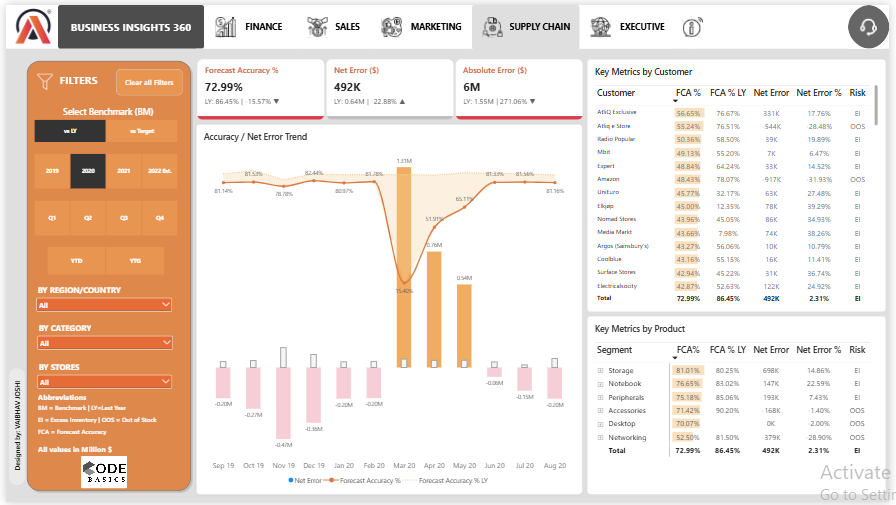

This screenshot's page, from the dashboard's own definition file:
{"tool":"powerbi","page":{"name":"Supply Chain View","canvas":[1920,1080],"ordinal":4},"visuals":[{"type":"group","id":"g1","title":"Group 3","box":[70,864.3,265.7,74.3],"z":0,"group":"g2"},{"type":"shape","box":[70.3,864.3,264,24],"z":0,"group":"g1"},{"type":"pivotTable","title":"Key Metrics by Customer","fields":{"Rows":["dim_customer.customer"],"Values":["Key Measures.Forecast Accuracy %","Key Measures.Forecast Accuracy % LY","Key Measures.Net Error","Key Measures.Net Error %","Key Measures.Risk"]},"box":[1262.5,117.5,650,550],"z":1000},{"type":"shape","box":[70,835.8,237.5,33.8],"z":1000,"group":"g2"},{"type":"shape","box":[70,890.6,264.3,22.9],"z":1000,"group":"g1"},{"type":"lineClusteredColumnComboChart","title":"Accuracy / Net Error Trend","fields":{"Category":["dim_date.Month"],"Y":["Key Measures.Net Error"],"Y2":["Key Measures.Forecast Accuracy %","Key Measures.Forecast Accuracy % LY"]},"box":[414,258,840,806],"z":2000},{"type":"shape","box":[70,915.7,265.7,22.9],"z":2000,"group":"g1"},{"type":"pivotTable","title":"Key Metrics by Product","fields":{"Rows":["dim_product.segment","dim_product.category","dim_product.product"],"Values":["Key Measures.Forecast Accuracy %","Key Measures.Forecast Accuracy % LY","Key Measures.Net Error","Key Measures.Net Error %","Key Measures.Risk"]},"box":[1262,676,650,388],"z":3000},{"type":"textbox","box":[1830,0,90,95],"z":5000},{"type":"textbox","box":[0,0,1905,95],"z":6000},{"type":"image","box":[15,7.5,90,77.5],"z":7000},{"type":"actionButton","box":[112.5,0,317.5,95],"z":8000},{"type":"actionButton","box":[432.5,0,197.5,95],"z":9000},{"type":"actionButton","box":[632.5,0,157.5,95],"z":10000},{"type":"actionButton","box":[792.5,0,217.5,95],"z":11000},{"type":"actionButton","box":[1012,0,234,96],"z":12000},{"type":"actionButton","box":[1247.5,0,205,95],"z":13000},{"type":"actionButton","box":[1830,0,90,95],"z":14000},{"type":"actionButton","box":[1455,0,77.5,95],"z":15000},{"type":"shape","box":[38.1,114.3,369,947.6],"z":16000},{"type":"shape","box":[70,947.5,238,32],"z":17000},{"type":"slicer","fields":{"Values":["dim_date.Quarter"]},"box":[40.5,423.8,350,78.6],"z":18000},{"type":"slicer","fields":{"Values":["dim_date.YTD_YTG"]},"box":[69,523.8,292.9,64.3],"z":19000},{"type":"slicer","fields":{"Values":["dim_market.region","dim_market.market"]},"box":[61.9,605.8,304.8,78.6],"z":20000},{"type":"slicer","fields":{"Values":["dim_customer.customer"]},"box":[62.5,774.5,302.5,77.5],"z":21000},{"type":"slicer","fields":{"Values":["dim_product.category"]},"box":[62.5,689.5,305,80],"z":22000},{"type":"slicer","fields":{"Values":["Set BM.Benchmarks"]},"box":[40.5,247.6,350,52],"z":23000},{"type":"actionButton","box":[240,140,145,57.5],"z":24000},{"type":"textbox","title":"FILTERS","box":[104.8,147.6,107.1,35.7],"z":25000},{"type":"image","box":[61.9,147.6,47.6,38.1],"z":26000},{"type":"slicer","fields":{"Values":["Fiscal Year.FY_desc"]},"box":[40.5,322.2,350,78.6],"z":27000},{"type":"textbox","title":"Select Benchmark (BM)","box":[78.6,219,288.1,38.1],"z":28000},{"type":"image","box":[162.5,980,100,70],"z":29000},{"type":"group","id":"g2","title":"Group 5","box":[70,835.8,265,102.5],"z":30000},{"type":"actionButton","title":"AB Signature","box":[7.5,790,35,255],"z":31000},{"type":"cardVisual","fields":{"Data":["Key Measures.Forecast Accuracy %","Key Measures.Net Error","Key Measures.Abs Error"]},"box":[415,117.5,840,132],"z":32000},{"type":"shape","box":[432.5,123.8,240,31.7],"z":33000},{"type":"shape","box":[712.5,123.8,240,31.7],"z":34000},{"type":"shape","box":[992.5,123.8,240,32.5],"z":35000}]}

Visuals, with their boxes on the page's 1920x1080 design canvas (x1, y1, x2, y2). These are canvas units, not pixel positions in the 896x505 screenshot, which may show the page scaled, cropped or inside an application window:
"Group 3" group: bbox(70, 864, 336, 939)
shape: bbox(70, 864, 334, 888)
"Key Metrics by Customer" pivotTable: bbox(1262, 118, 1912, 668)
shape: bbox(70, 836, 308, 870)
shape: bbox(70, 891, 334, 914)
"Accuracy / Net Error Trend" lineClusteredColumnComboChart: bbox(414, 258, 1254, 1064)
shape: bbox(70, 916, 336, 939)
"Key Metrics by Product" pivotTable: bbox(1262, 676, 1912, 1064)
textbox: bbox(1830, 0, 1920, 95)
textbox: bbox(0, 0, 1905, 95)
image: bbox(15, 8, 105, 85)
actionButton: bbox(112, 0, 430, 95)
actionButton: bbox(432, 0, 630, 95)
actionButton: bbox(632, 0, 790, 95)
actionButton: bbox(792, 0, 1010, 95)
actionButton: bbox(1012, 0, 1246, 96)
actionButton: bbox(1248, 0, 1452, 95)
actionButton: bbox(1830, 0, 1920, 95)
actionButton: bbox(1455, 0, 1532, 95)
shape: bbox(38, 114, 407, 1062)
shape: bbox(70, 948, 308, 980)
slicer - dim_date.Quarter: bbox(40, 424, 390, 502)
slicer - dim_date.YTD_YTG: bbox(69, 524, 362, 588)
slicer - dim_market.region x dim_market.market: bbox(62, 606, 367, 684)
slicer - dim_customer.customer: bbox(62, 774, 365, 852)
slicer - dim_product.category: bbox(62, 690, 368, 770)
slicer - Set BM.Benchmarks: bbox(40, 248, 390, 300)
actionButton: bbox(240, 140, 385, 198)
"FILTERS" textbox: bbox(105, 148, 212, 183)
image: bbox(62, 148, 110, 186)
slicer - Fiscal Year.FY_desc: bbox(40, 322, 390, 401)
"Select Benchmark (BM)" textbox: bbox(79, 219, 367, 257)
image: bbox(162, 980, 262, 1050)
"Group 5" group: bbox(70, 836, 335, 938)
"AB Signature" actionButton: bbox(8, 790, 42, 1045)
cardVisual - Key Measures.Forecast Accuracy % x Key Measures.Net Error: bbox(415, 118, 1255, 250)
shape: bbox(432, 124, 672, 156)
shape: bbox(712, 124, 952, 156)
shape: bbox(992, 124, 1232, 156)
